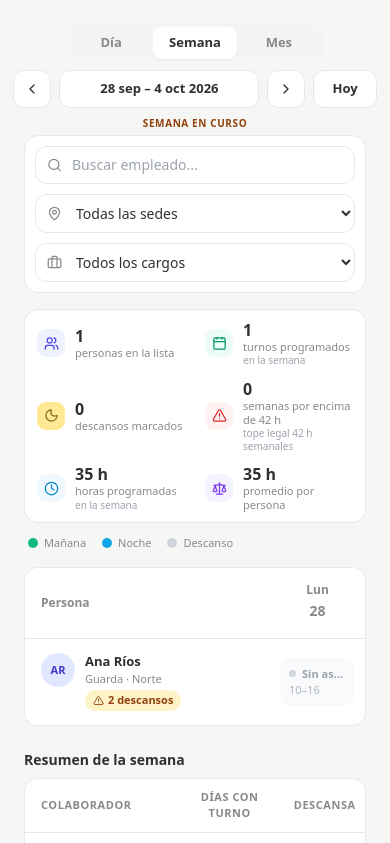
Scenario: los avisos que cuestan dinero › avisa a quien cruzaría a descanso HABITUAL con esto
Click the button with aria-label "marcar la semana de Ana Ríos" at (150, 682), box [41,653,260,711]
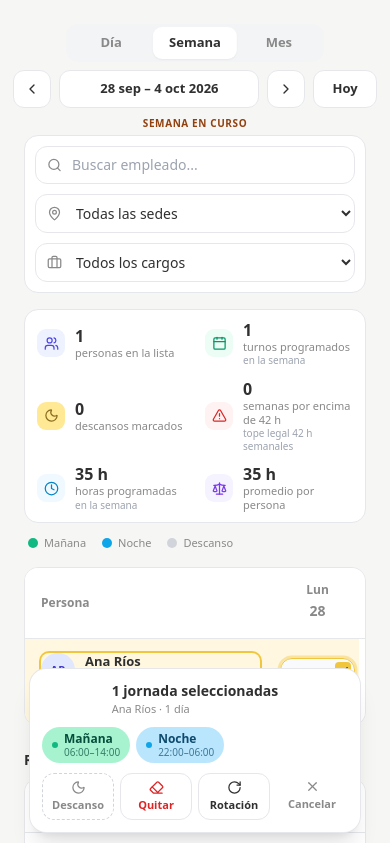
Click the button "Noche 22:00–06:00" at (180, 745), box [136,727,224,762]
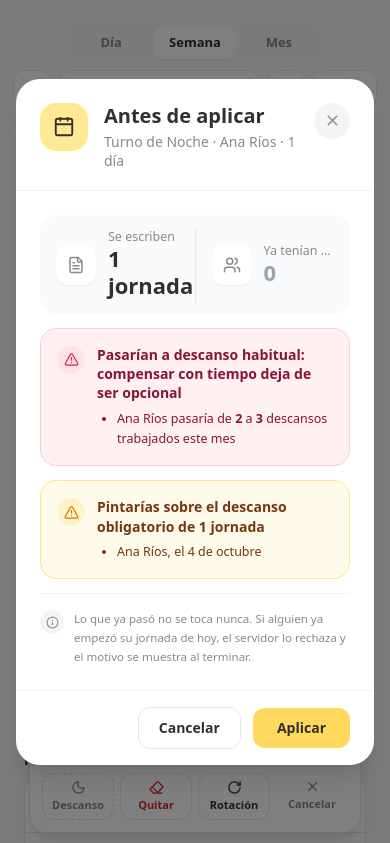
Result: the dialog "Antes de aplicar" shows "habitual" at [97,345,311,402]
